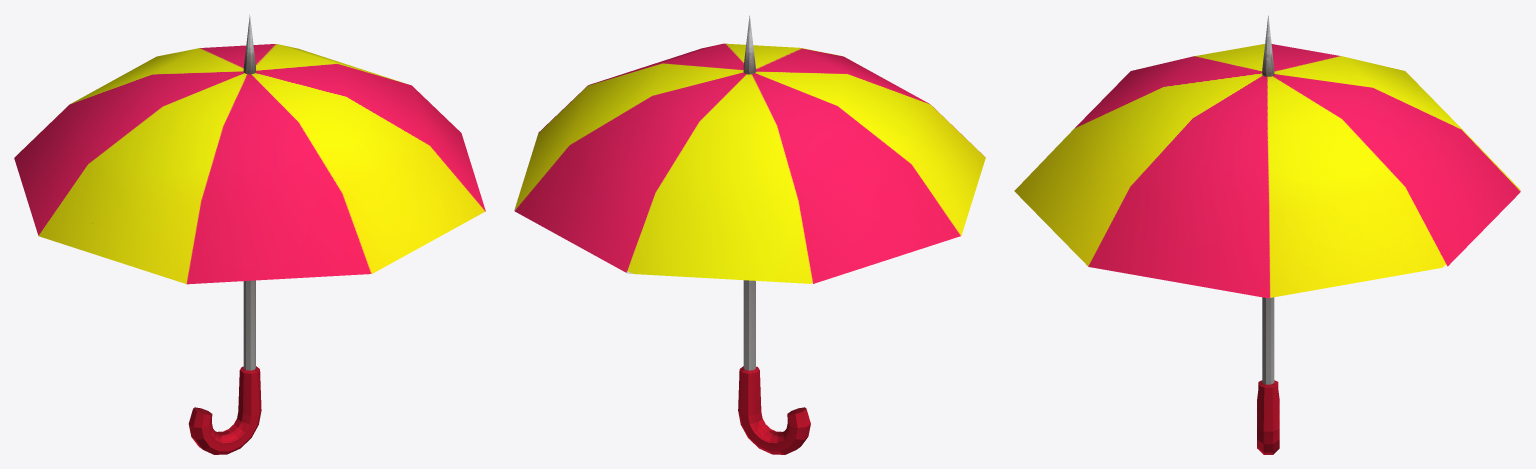
The model's file is umbrella.fbx.
3 views of the same model, side by side, from view 1: azimuth 30°, elevation 25°; view 2: azimuth 150°, elevation 25°; view 3: azimuth 270°, elevation 25° (orthographic). The views are drawn at different scales.
Visible parts, largest first — view 1: brollyTop1, brollyHandle1; view 2: brollyTop1, brollyHandle1; view 3: brollyTop1, brollyHandle1.
Boxes of the visible parts, box(x1,y1,x2,y2) form: brollyTop1: box(14, 44, 485, 284); brollyHandle1: box(188, 15, 261, 454); brollyTop1: box(514, 43, 985, 283); brollyHandle1: box(738, 15, 810, 454); brollyTop1: box(1014, 44, 1521, 298); brollyHandle1: box(1257, 15, 1279, 454).
Bounding box in the file's own units: 0.2813 × 0.2751 × 0.2813.
